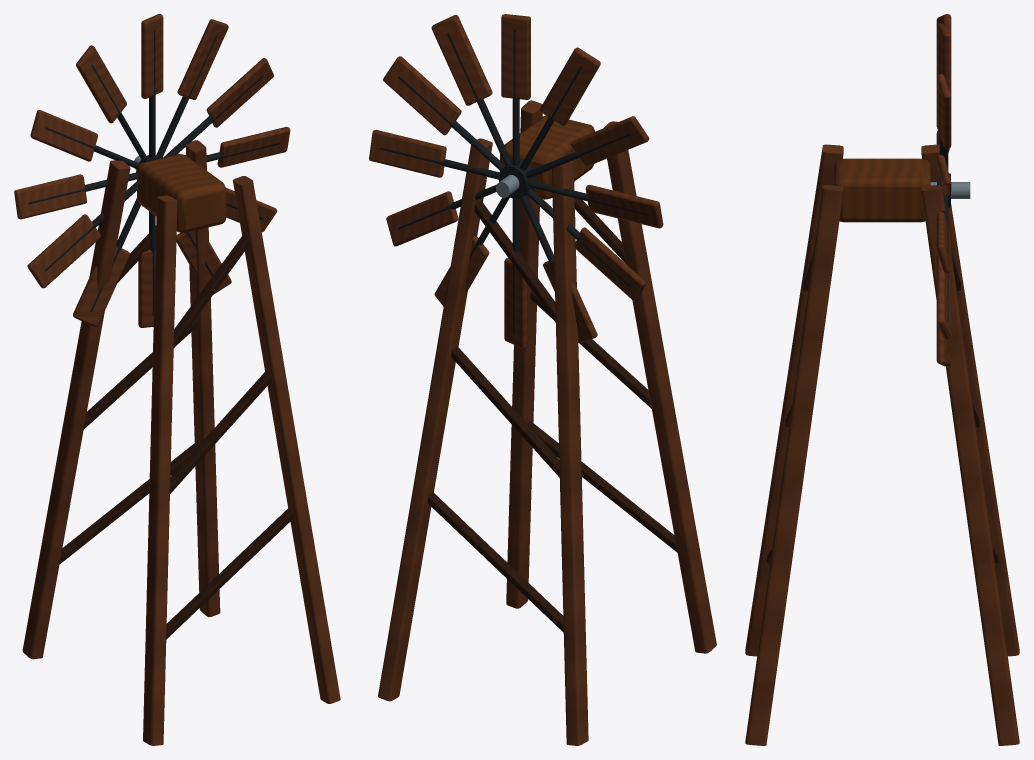
Rendered from GardenWindmill.gltf.
The picture shows the model from 3 angles, left to right: view 1: azimuth 30°, elevation 25°; view 2: azimuth 150°, elevation 25°; view 3: azimuth 270°, elevation 25°; orthographic projection. The views are drawn at different scales.
Visible parts, largest first — view 1: GardenWindmill__Body, GardenWindmill__Spinner; view 2: GardenWindmill__Body, GardenWindmill__Spinner; view 3: GardenWindmill__Body, GardenWindmill__Spinner.
Part boxes in pixels (x1,y1,x2,y2): GardenWindmill__Body: (22, 140, 340, 745); GardenWindmill__Spinner: (14, 14, 290, 327); GardenWindmill__Body: (378, 100, 716, 745); GardenWindmill__Spinner: (369, 14, 663, 348); GardenWindmill__Body: (745, 144, 1019, 745); GardenWindmill__Spinner: (936, 14, 951, 366).
Bounding box in the file's own units: 0.672 × 1.51 × 0.56.
1 material, 1 textured.
